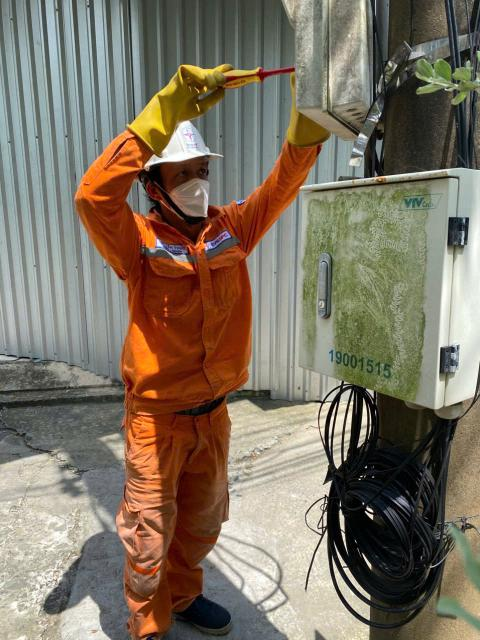gloves: (106, 48, 280, 153), (281, 80, 353, 157)
helmet: (120, 94, 226, 180)
shoes: (168, 579, 246, 640)
